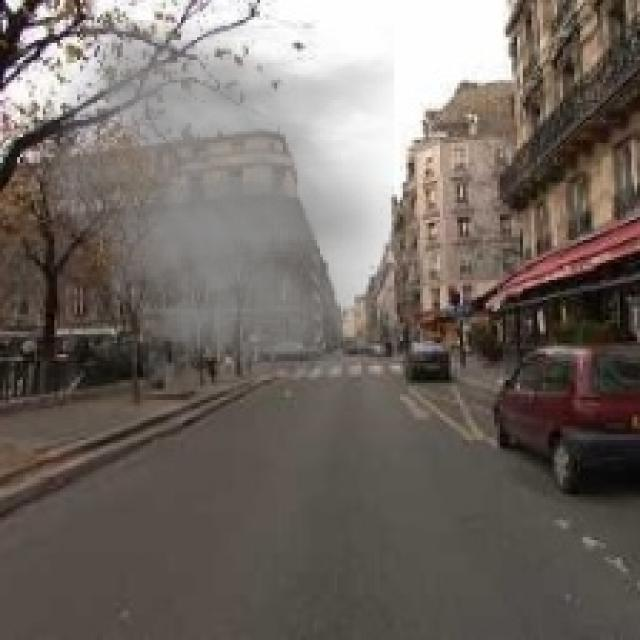Smoke: (22, 20, 394, 377)
